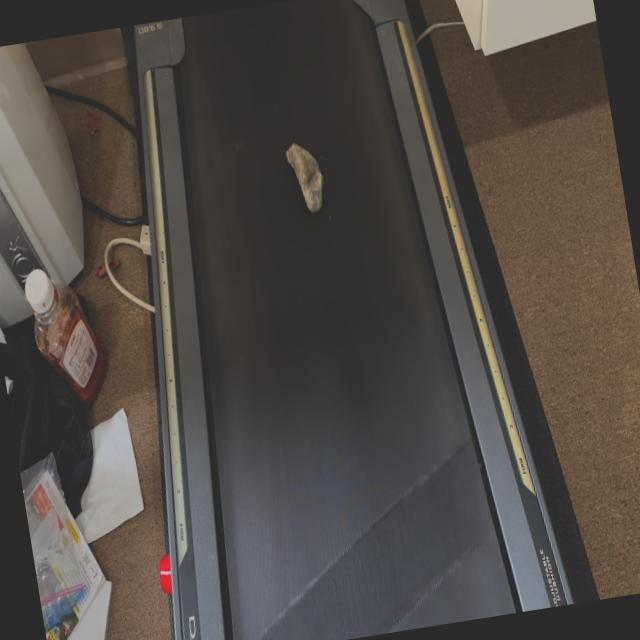Trash: (284, 140, 330, 217)
